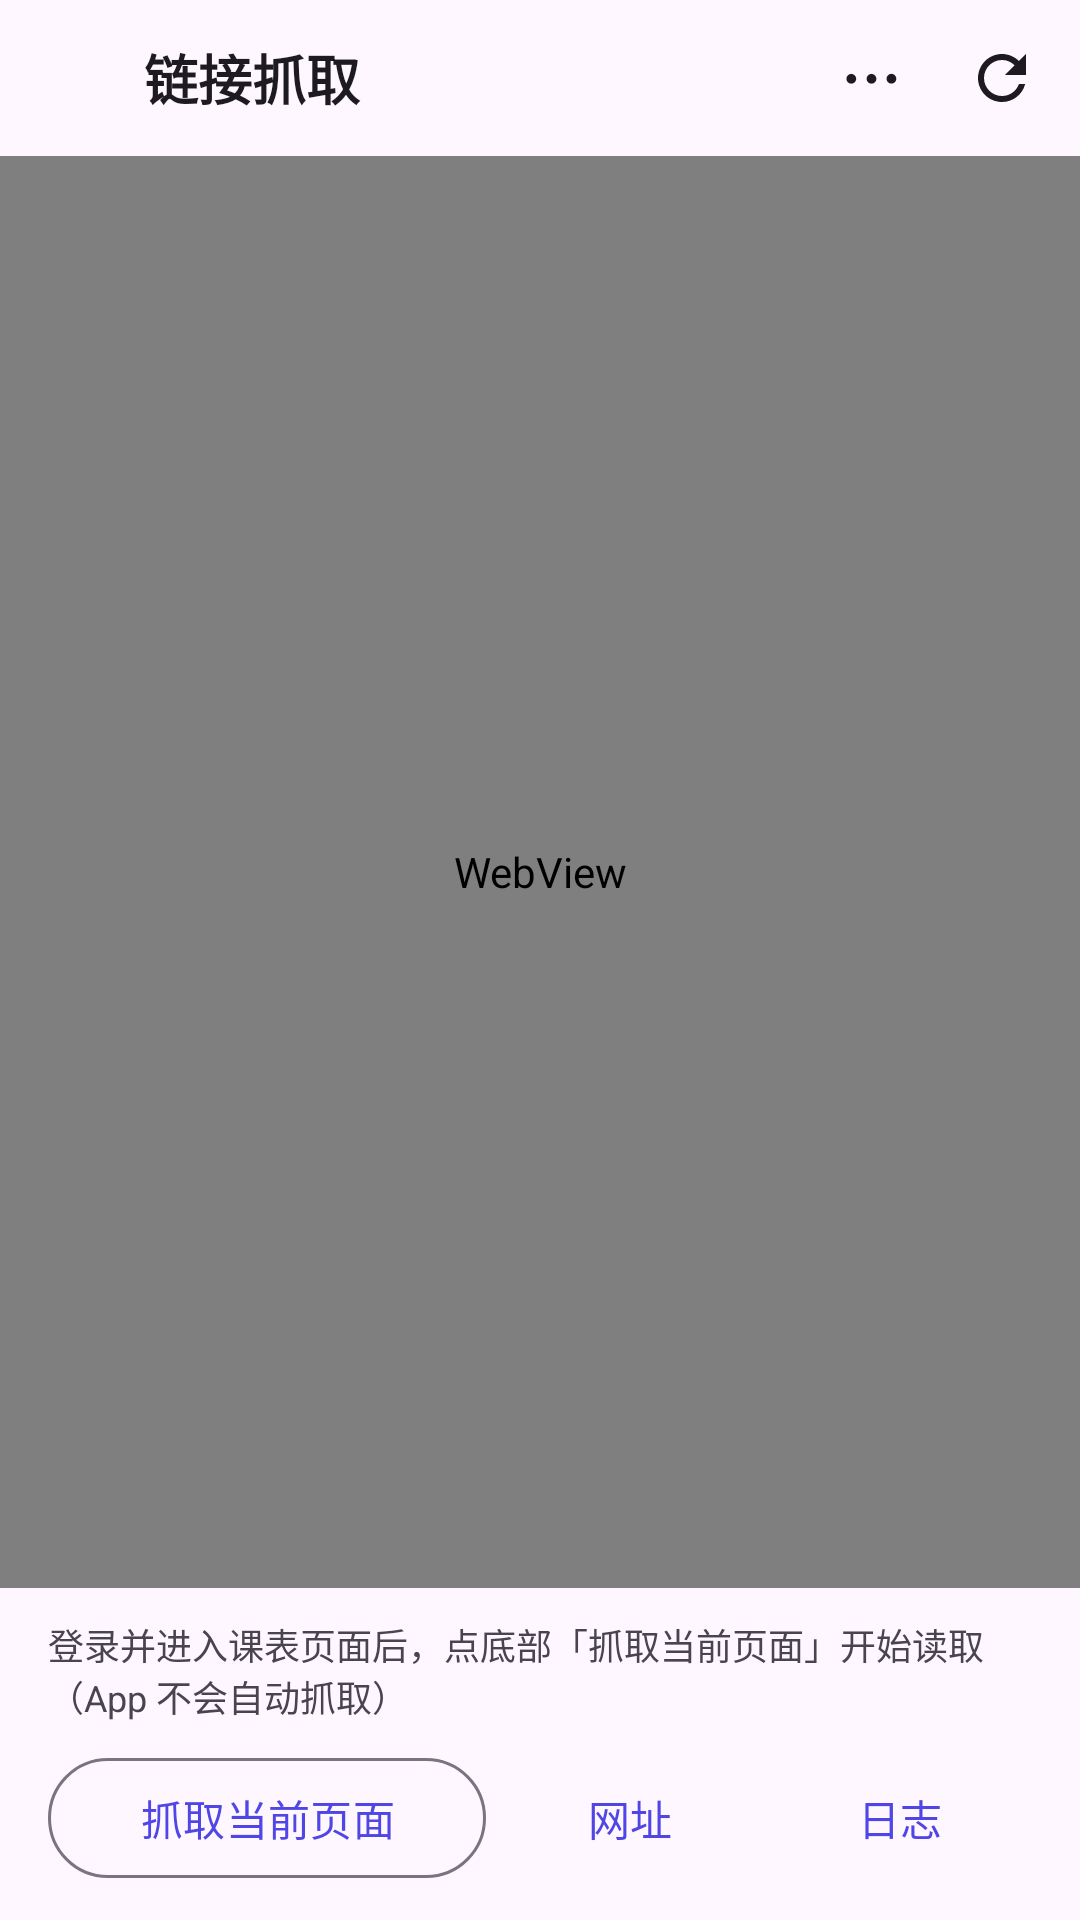

Locate icon controls on the screen. Image size 1080w x 1920h, boxes as (x1, y1, x2, y2).
刷新页面: (978, 54, 1026, 102)
